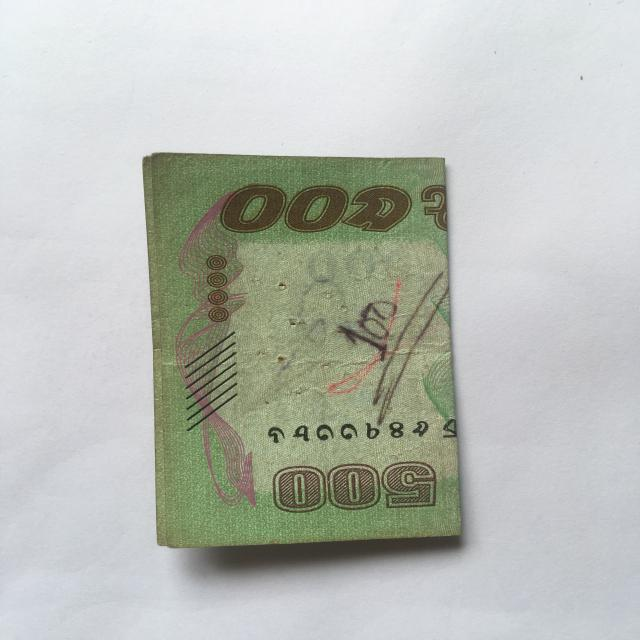Taka: (136, 144, 480, 550)
